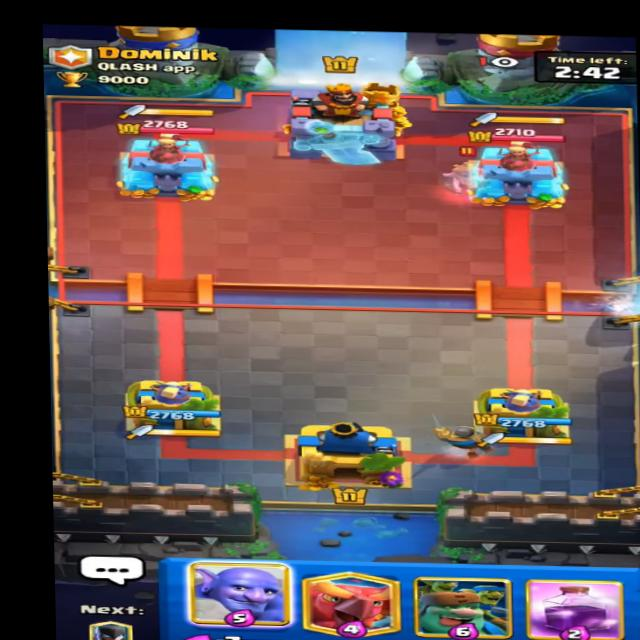Royalghost: (433, 150, 490, 201)
